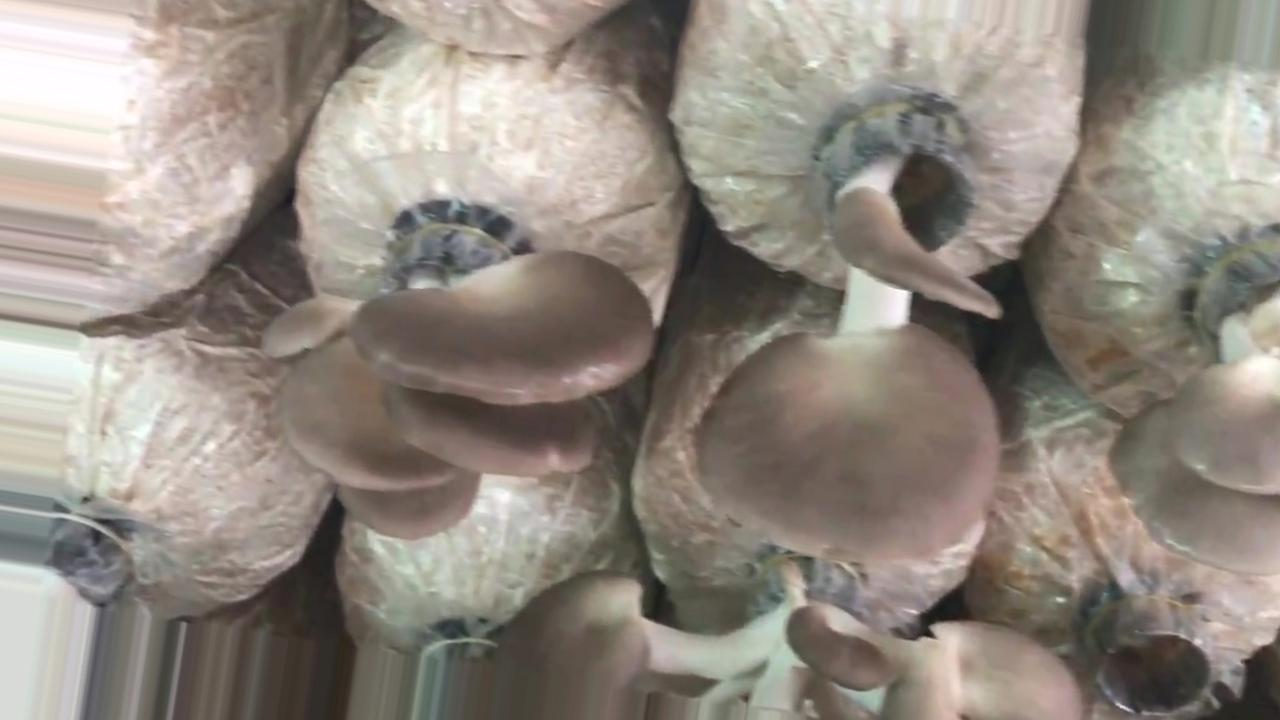nam: (689, 100, 1006, 566), (259, 212, 656, 542), (489, 562, 1086, 720), (1105, 235, 1278, 580)
